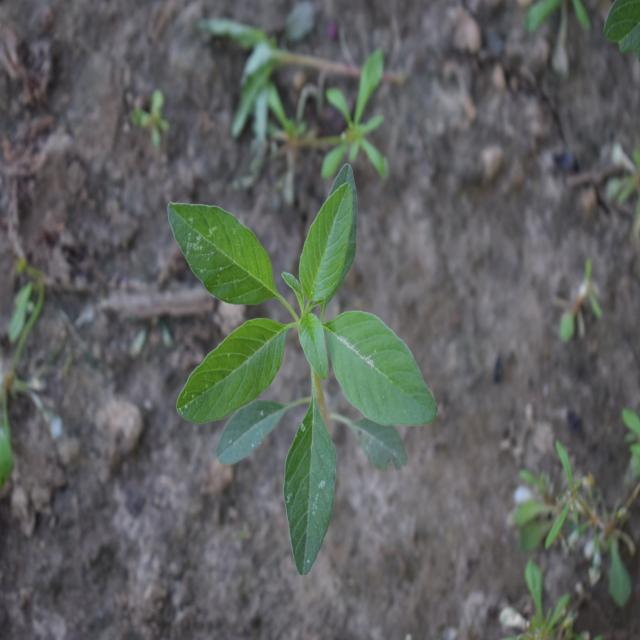Waterhemp: (164, 160, 440, 580)
